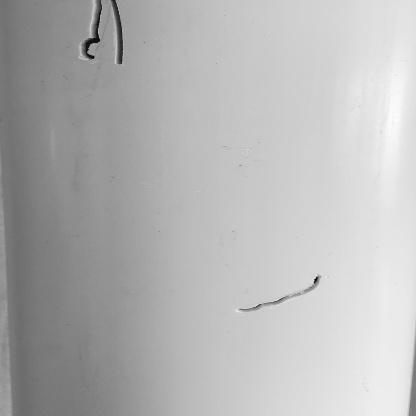fengxi: (234, 275, 324, 313), (77, 1, 125, 66)
